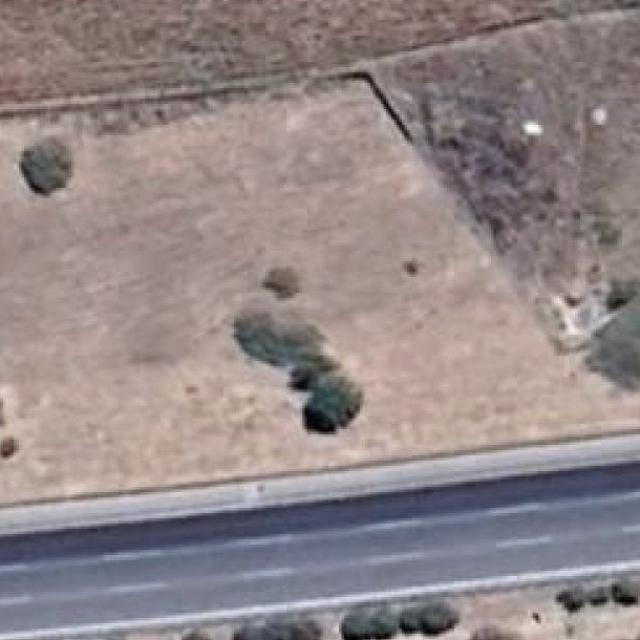Tree: (234, 306, 324, 363), (300, 375, 367, 432), (19, 134, 76, 191), (281, 353, 340, 388), (260, 264, 310, 300), (228, 625, 325, 640), (603, 275, 640, 309), (423, 600, 458, 632), (370, 607, 402, 640), (608, 576, 640, 608), (557, 586, 587, 616), (341, 610, 369, 640), (402, 602, 427, 634), (469, 625, 514, 640), (0, 434, 23, 456), (173, 625, 206, 640), (586, 590, 610, 610)
